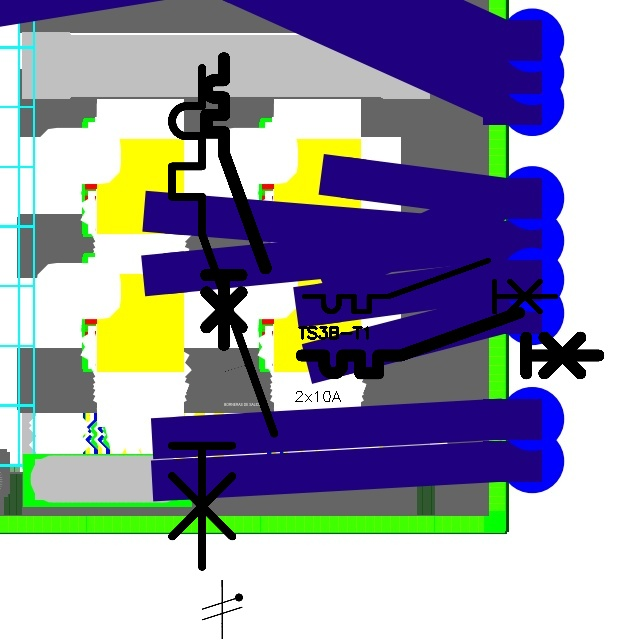interruptor_termomagnetico: (159, 55, 287, 580), (294, 305, 606, 381), (199, 51, 272, 352), (298, 254, 562, 318)
